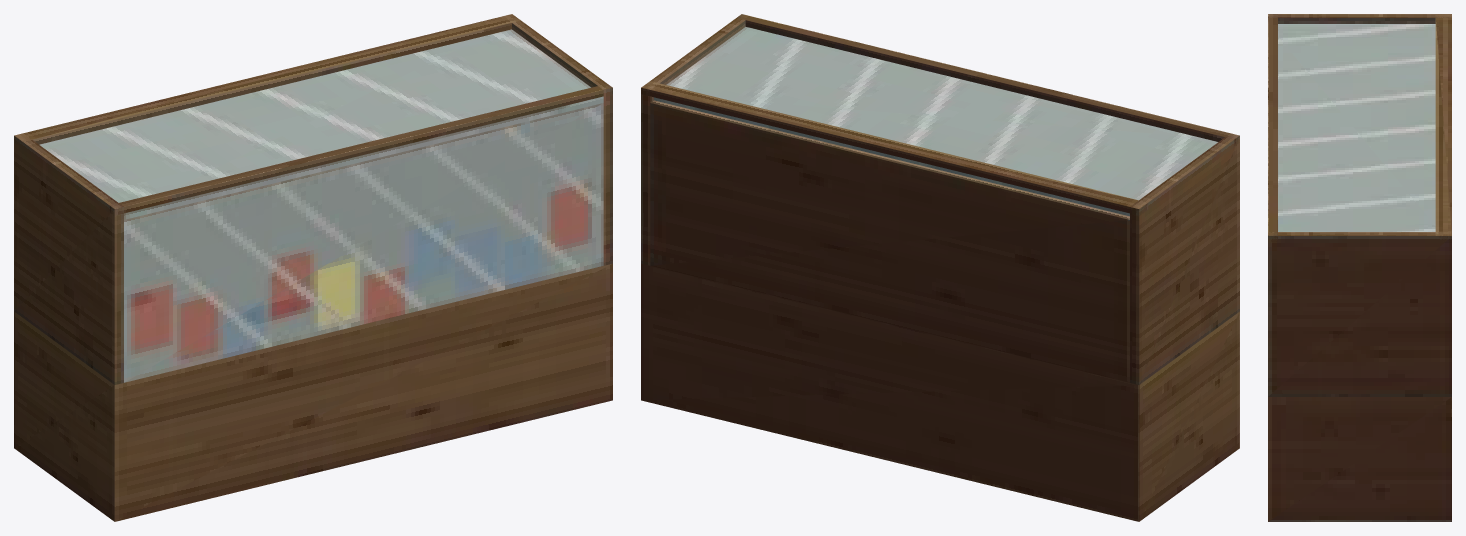
The model's file is gg_showcase.glb.
3 renders of one model, left to right at view 1: azimuth 30°, elevation 25°; view 2: azimuth 150°, elevation 25°; view 3: azimuth 270°, elevation 25°, orthographic. The views are drawn at different scales.
Visible parts, largest first — view 1: mesh; view 2: mesh; view 3: mesh.
Part boxes in pixels (<box>): mesh: <box>14,14,612,521</box>; mesh: <box>641,14,1239,521</box>; mesh: <box>1268,14,1451,521</box>.
Size of the model in its own units: 1.6 by 0.9601 by 0.56.
1 material, 1 textured.
